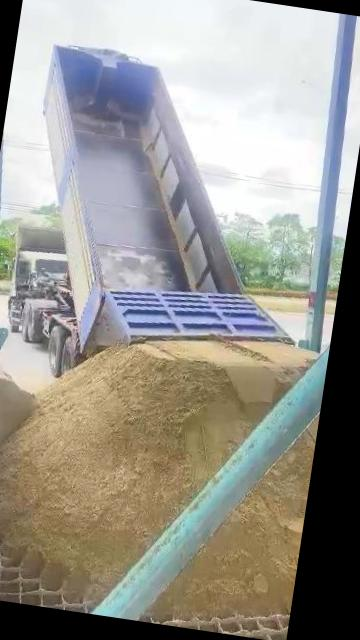sand: (0, 342, 309, 600), (152, 423, 316, 618), (0, 363, 36, 462)
